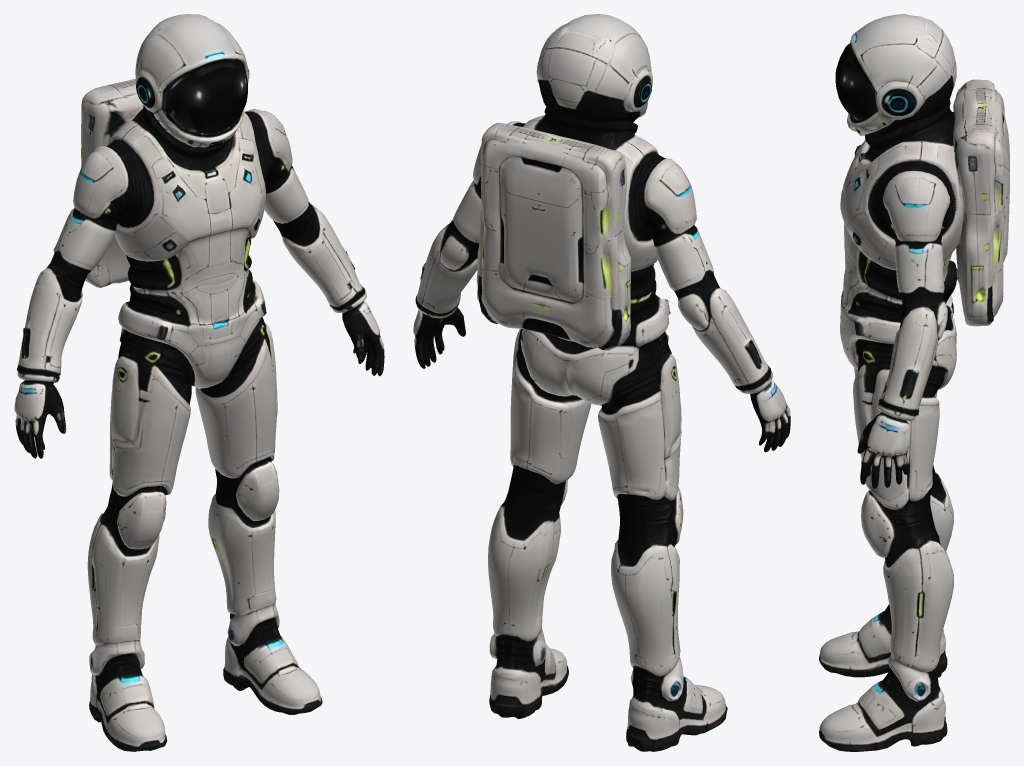
Rendered from base_basic_pbr.glb.
3 views of the same model, side by side, from view 1: azimuth 30°, elevation 25°; view 2: azimuth 150°, elevation 25°; view 3: azimuth 270°, elevation 25° (orthographic). The views are drawn at different scales.
Parts seen in each view (by area): view 1: model; view 2: model; view 3: model.
Boxes of the visible parts, x1,y1,x2,y2 form: model: [14, 14, 384, 751]; model: [413, 14, 790, 751]; model: [819, 14, 1009, 751].
Size of the model in its own units: 1.03 by 1.9 by 0.4791.
1 material, 1 textured.
